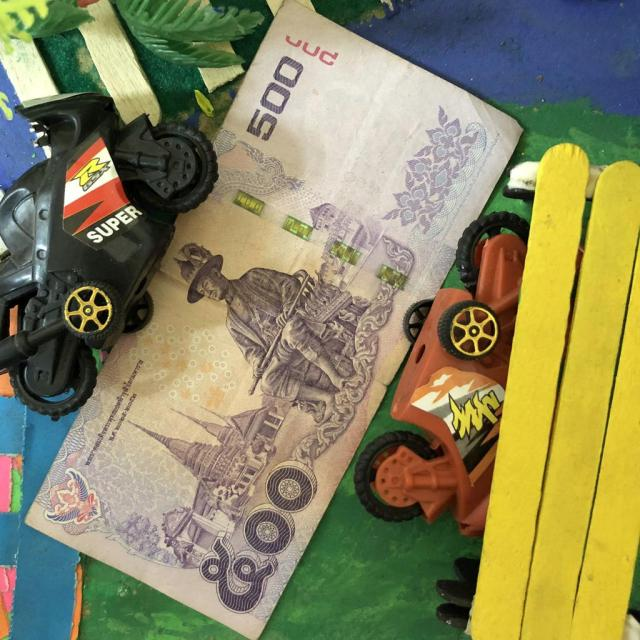THAI500: (26, 0, 522, 639)
